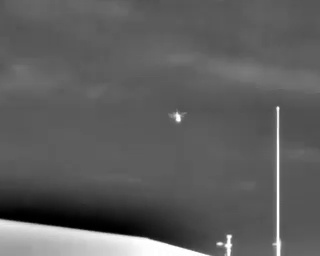HELICOPTER: (164, 106, 190, 127)
